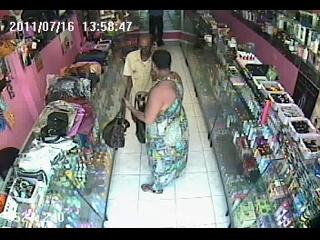Normal: (121, 49, 190, 194), (122, 33, 156, 133), (102, 99, 130, 149), (148, 10, 165, 46), (75, 50, 108, 66)
